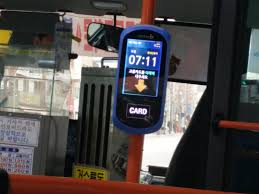terminal: (110, 23, 172, 136)
